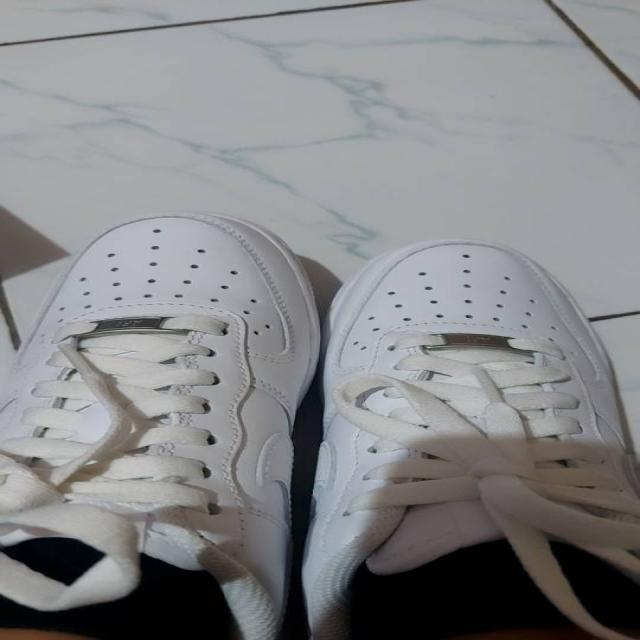nike original air force: (0, 205, 317, 640), (314, 238, 640, 640)
